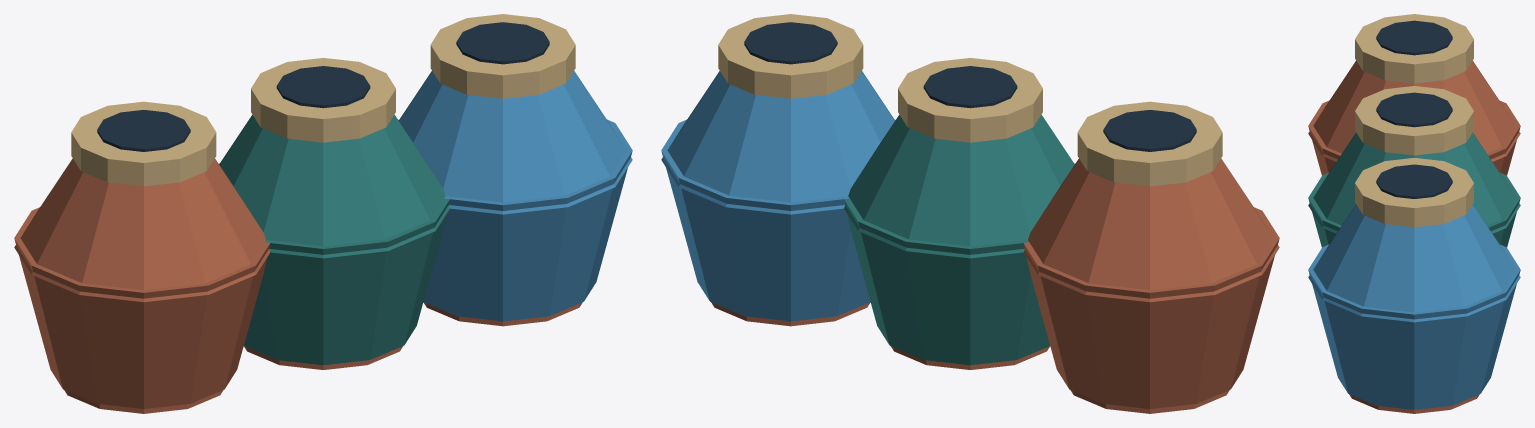
Rendered from pots.glb.
The picture shows the model from 3 angles, left to right: view 1: azimuth 30°, elevation 25°; view 2: azimuth 150°, elevation 25°; view 3: azimuth 270°, elevation 25°; orthographic projection. The views are drawn at different scales.
Visible parts, largest first — view 1: Target0, Target2, Target1, Remnant2, Remnant0, Remnant1; view 2: Target0, Target2, Target1, Remnant2, Remnant0, Remnant1; view 3: Target2, Target1, Target0, Remnant2.
Boxes of the visible parts, <box> form: Target0: <box>14,101,270,408</box>; Target2: <box>398,14,632,321</box>; Target1: <box>219,58,449,365</box>; Remnant2: <box>423,302,582,326</box>; Remnant0: <box>64,390,223,413</box>; Remnant1: <box>244,346,402,369</box>; Target0: <box>1023,101,1279,408</box>; Target2: <box>661,14,895,321</box>; Target1: <box>844,58,1074,365</box>; Remnant2: <box>711,302,870,326</box>; Remnant0: <box>1070,390,1229,413</box>; Remnant1: <box>891,346,1049,369</box>; Target2: <box>1308,158,1520,409</box>; Target1: <box>1308,86,1520,247</box>; Target0: <box>1308,14,1520,175</box>; Remnant2: <box>1349,394,1479,413</box>.
Size of the model in its own units: 1.3 by 0.526 by 0.5.
